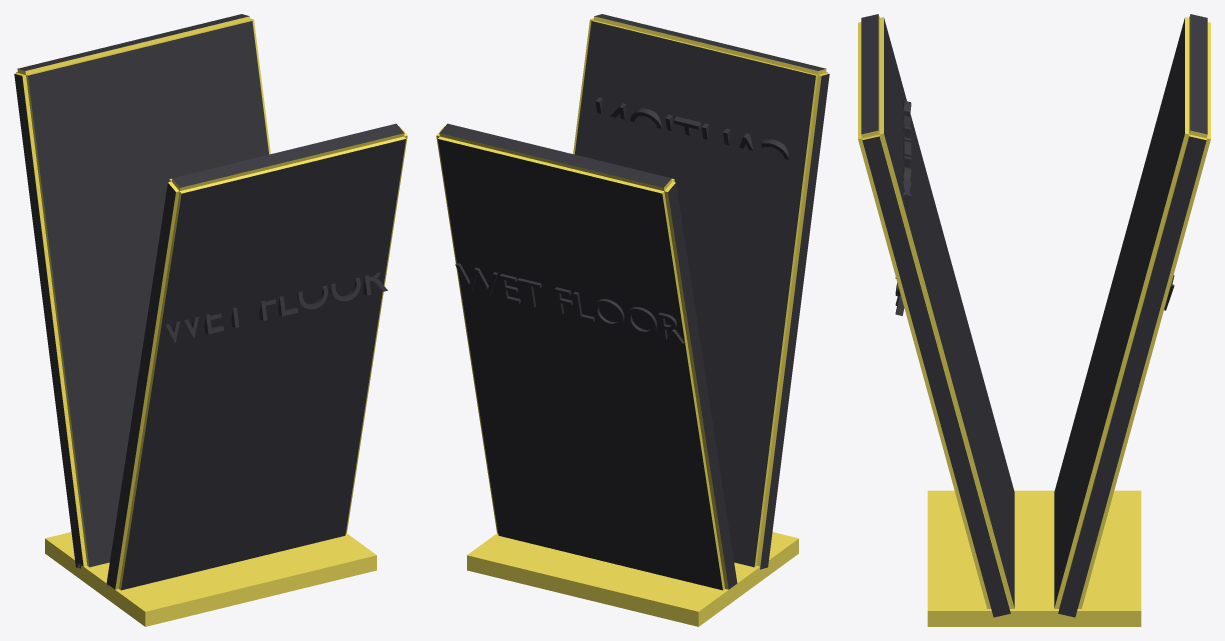
Rendered from wet_floor_sign.glb.
3 renders of one model, left to right at view 1: azimuth 30°, elevation 25°; view 2: azimuth 150°, elevation 25°; view 3: azimuth 270°, elevation 25°, orthographic. The views are drawn at different scales.
Visible parts, largest first — view 1: wet_floor_sign; view 2: wet_floor_sign; view 3: wet_floor_sign.
Boxes of the visible parts, x1,y1,x2,y2 form: wet_floor_sign: [14, 14, 407, 626]; wet_floor_sign: [436, 14, 829, 626]; wet_floor_sign: [858, 14, 1210, 626].
Size of the model in its own units: 0.32 by 0.6132 by 0.3967.
